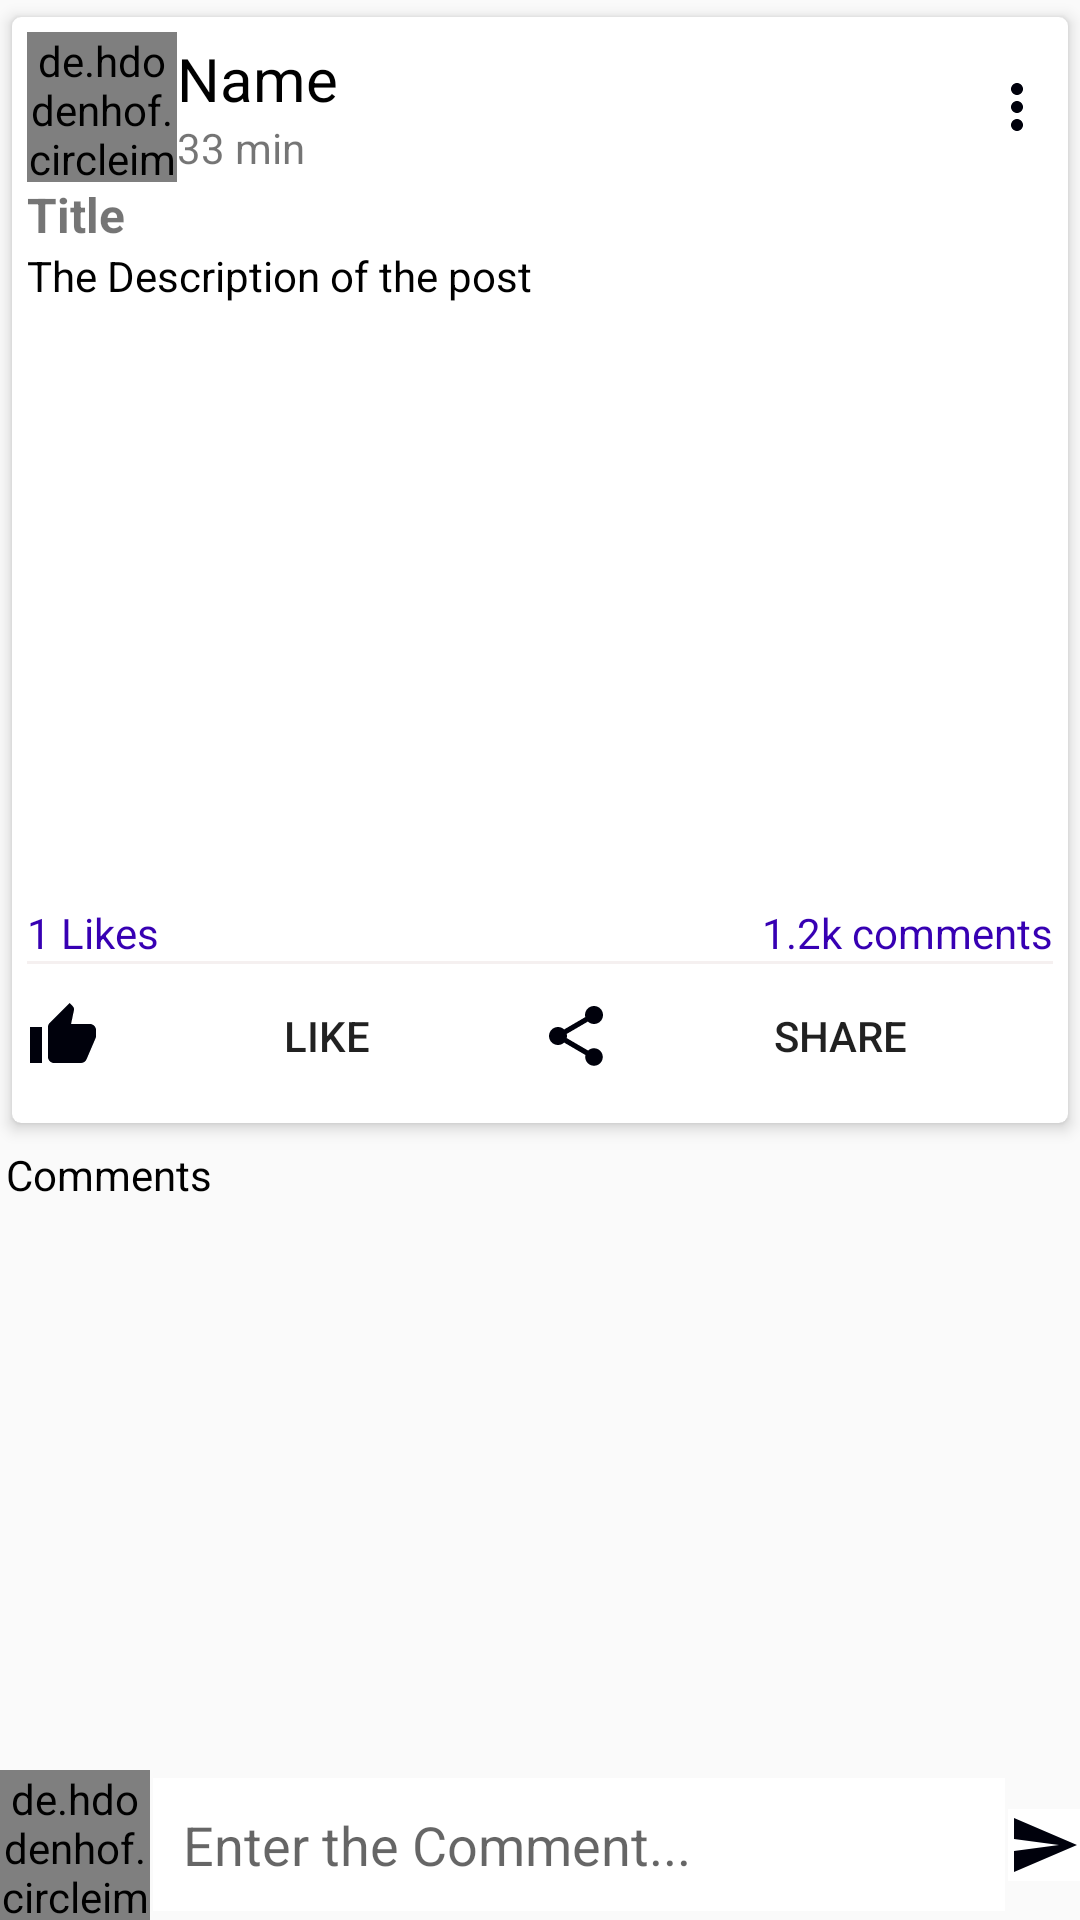

Point at icon controls on the screen. Image size 1080 x 1920, points as (x,y).
more: (1017,107)
send: (1045,1845)
